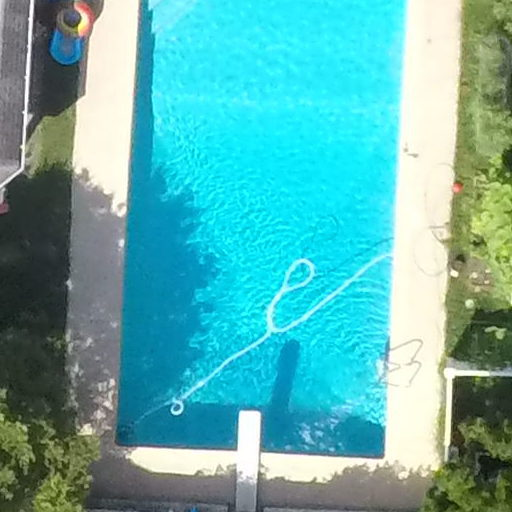pool: (81, 1, 460, 483)
toy: (45, 27, 89, 72), (48, 1, 93, 44)
